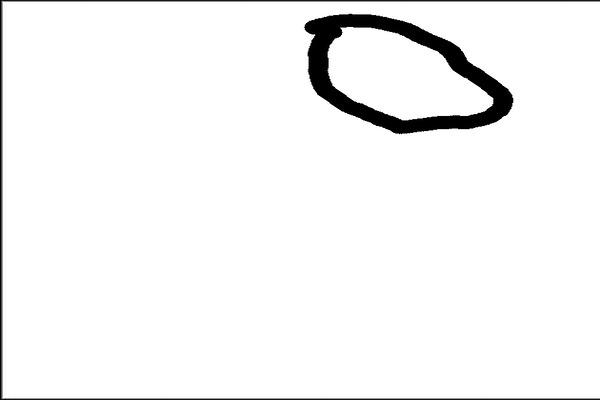O: (287, 8, 526, 146)
